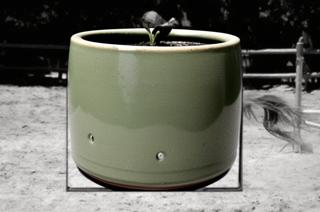person: (131, 11, 174, 110)
pottedplant: (66, 26, 242, 191)
